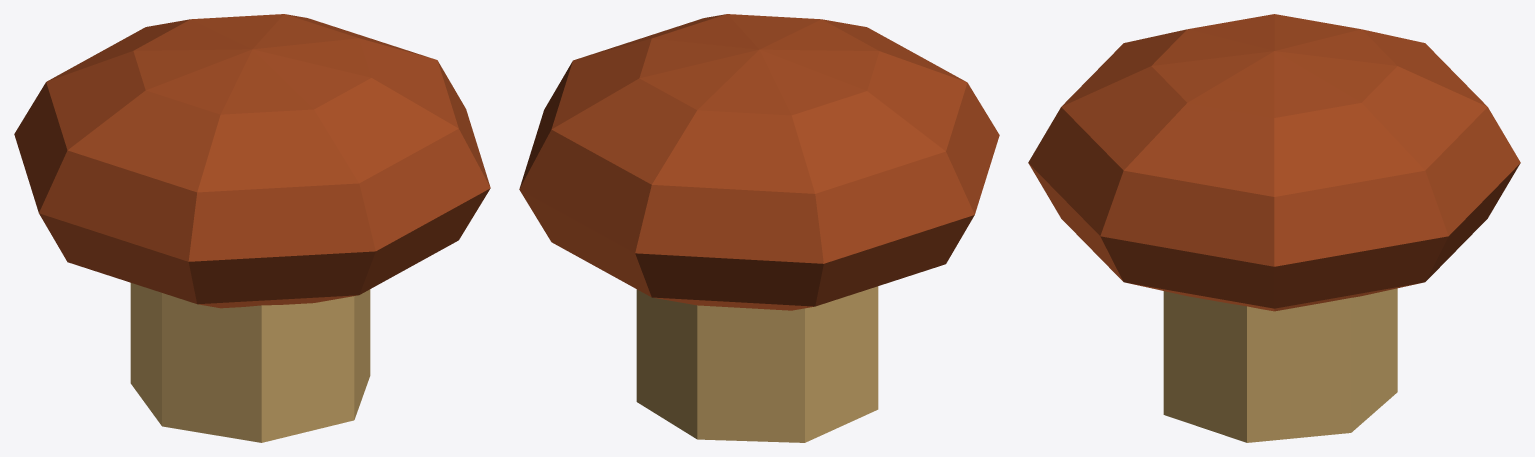
Rendered from mushroom.fbx.
The picture shows the model from 3 angles, left to right: view 1: azimuth 30°, elevation 25°; view 2: azimuth 150°, elevation 25°; view 3: azimuth 270°, elevation 25°; orthographic projection.
Visible parts, largest first — view 1: Sphere, Cylinder; view 2: Sphere, Cylinder; view 3: Sphere, Cylinder.
Part boxes in pixels (x1,y1,x2,y2): Sphere: (14,14,490,308); Cylinder: (130,283,370,442); Sphere: (519,14,999,310); Cylinder: (636,286,878,442); Sphere: (1028,14,1520,311); Cylinder: (1163,288,1397,442).
Size of the model in its own units: 400 by 306 by 400.
